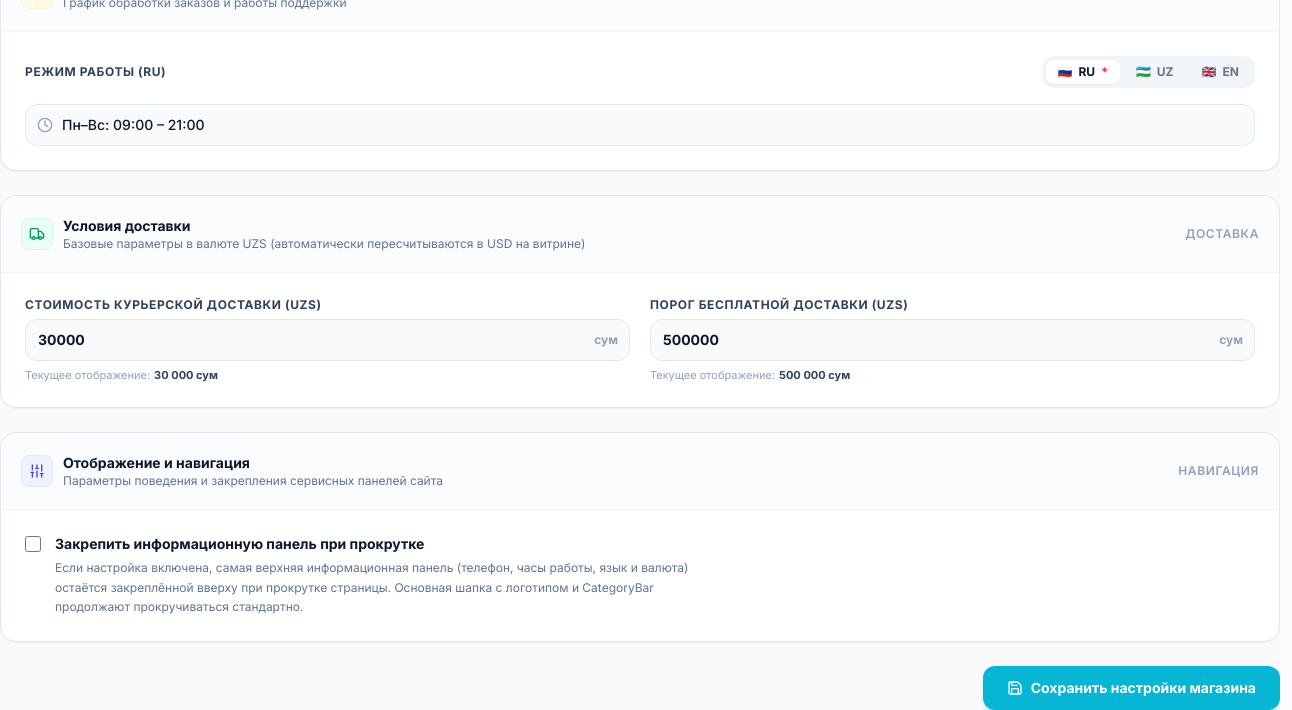
Scenario: ShopSettingsForm Component › displays server validation error when update fails
The image size is (1292, 710).
(page scrolled)
Click the button "Сохранить настройки магазина" at [1131, 688], box [983,666,1280,709]
(page scrolled)
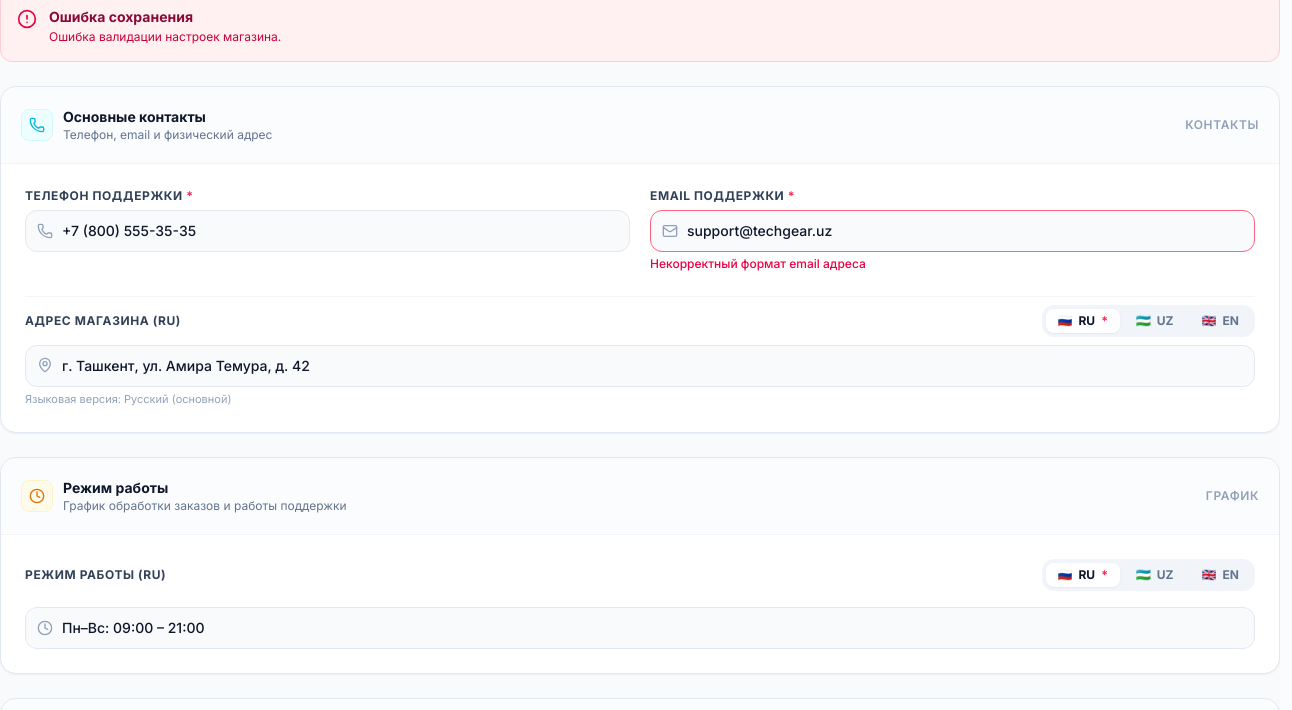
Expected: the heading "Ошибка сохранения" is shown, [49,8,193,25]
Expected: the text "Некорректный формат email адреса" is shown, [650,256,866,271]
